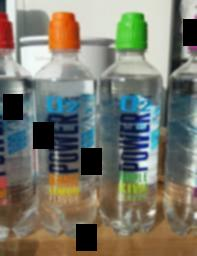powerO2_orange: (27, 7, 99, 236)
